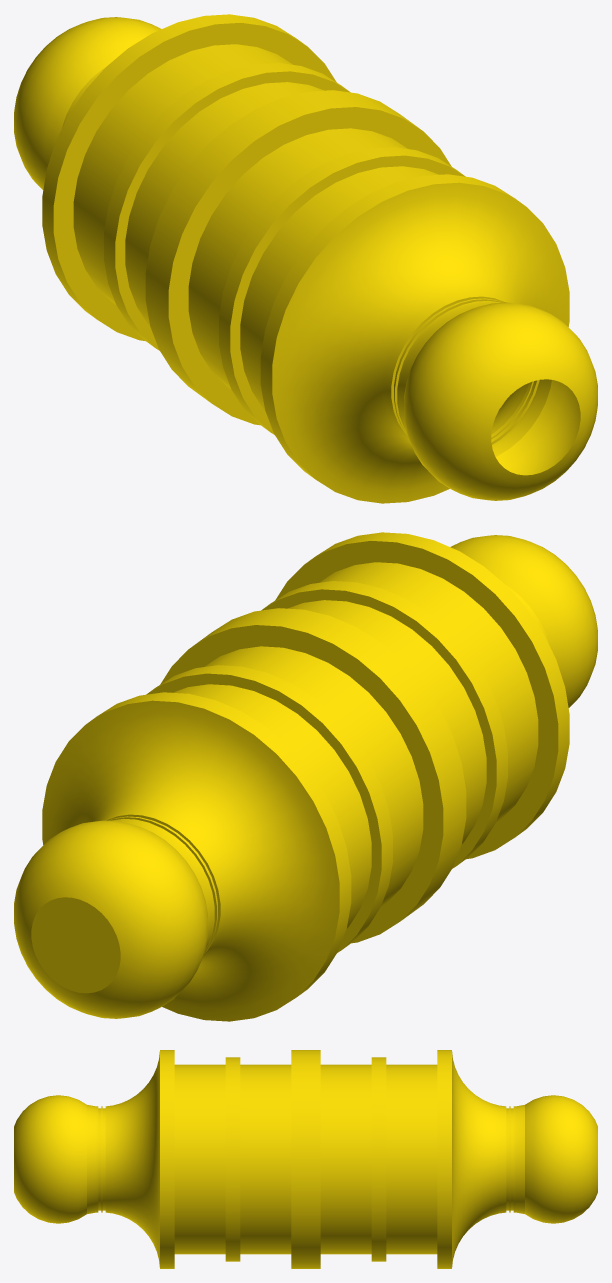
File: SliderCloudFix.fbx
3 views of the same model, one above another, from view 1: azimuth 30°, elevation 25°; view 2: azimuth 150°, elevation 25°; view 3: azimuth 270°, elevation 25° (orthographic). The views are drawn at different scales.
Visible parts, largest first — view 1: Group1; view 2: Group1; view 3: Group1.
Boxes of the visible parts, left/top/right/bottom form: Group1: left=14, top=14, right=597, bottom=503; Group1: left=14, top=532, right=597, bottom=1021; Group1: left=14, top=1050, right=597, bottom=1268.
Size of the model in its own units: 14.94 by 14.94 by 40.
